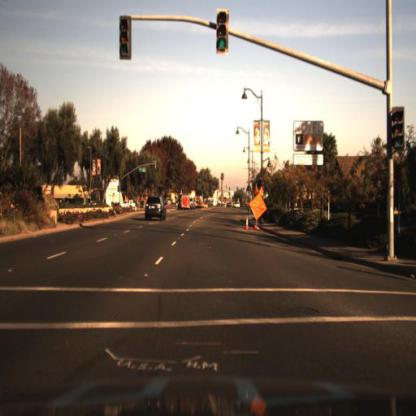car: (138, 188, 172, 222), (178, 192, 196, 210), (119, 198, 136, 212)
